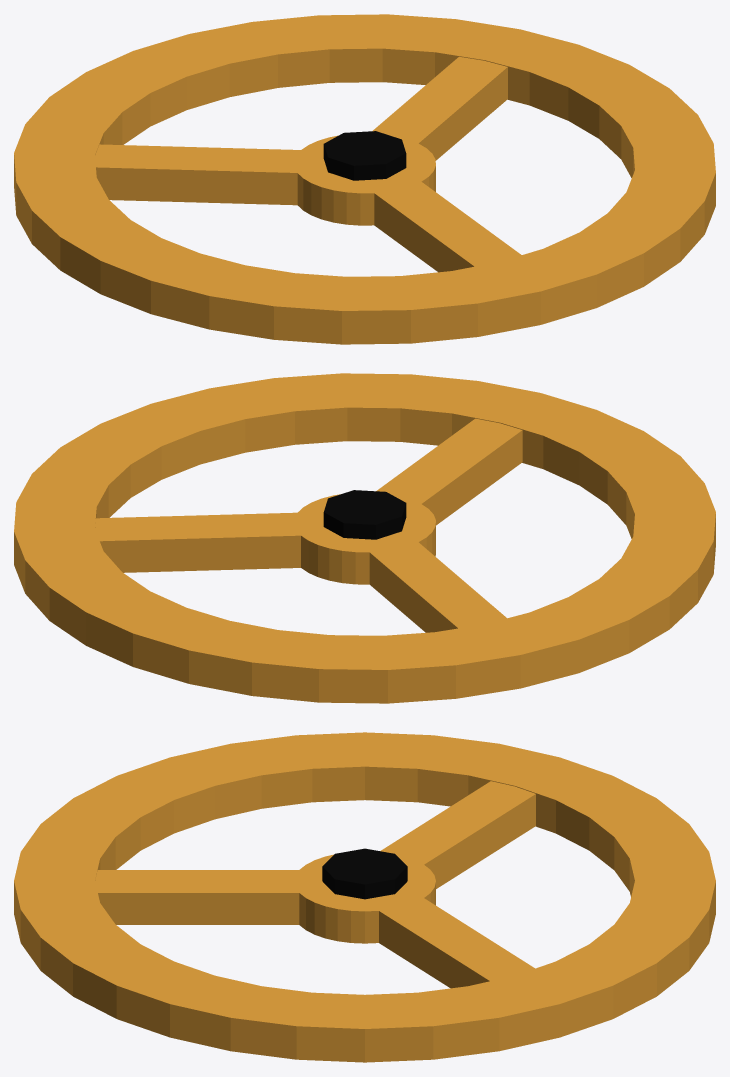
File: ValveWheel.fbx
3 renders of one model, top to bottom at view 1: azimuth 30°, elevation 25°; view 2: azimuth 150°, elevation 25°; view 3: azimuth 270°, elevation 25°, orthographic.
Parts seen in each view (by area): view 1: ValveWheel; view 2: ValveWheel; view 3: ValveWheel.
Part boxes in pixels (x1,y1,x2,y2): ValveWheel: (14, 14, 715, 344); ValveWheel: (14, 373, 715, 703); ValveWheel: (14, 732, 715, 1062).
Size of the model in its own units: 988 by 74.04 by 988.
